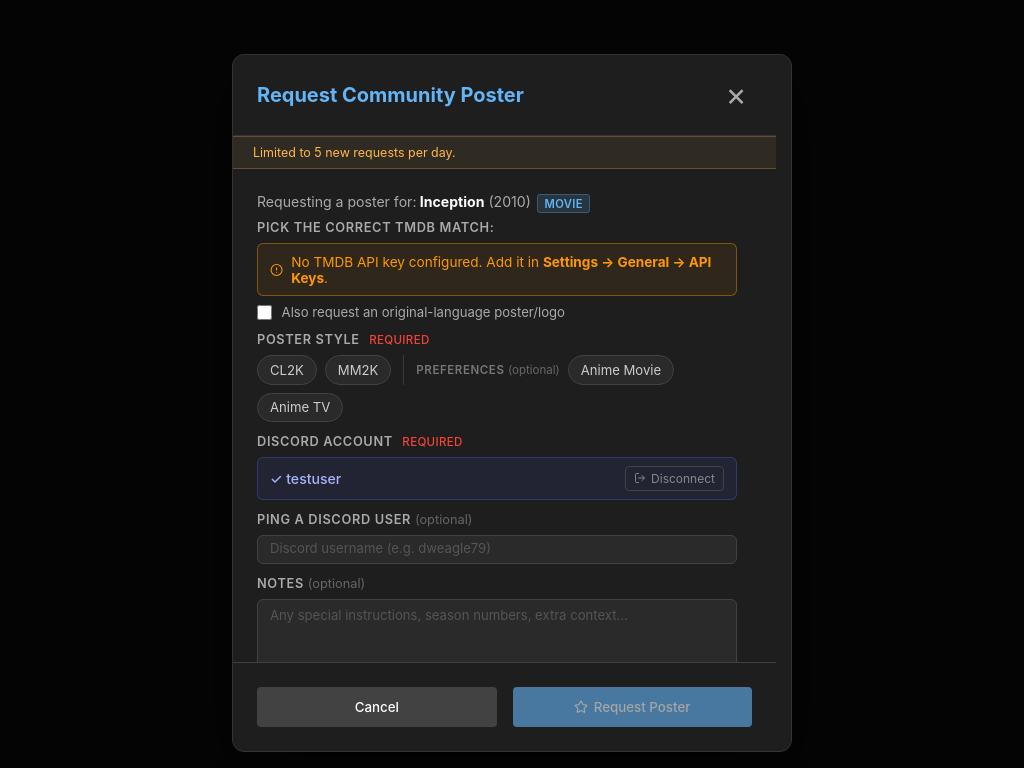
Scenario: CommunityRequestModal › submit button › stays disabled until a poster style is selected, then enables
Expected: the button "Request Poster" is disabled, [512, 687, 752, 727]
Step 1. Click the button "CL2K" → click(287, 370), box [257, 355, 317, 384]
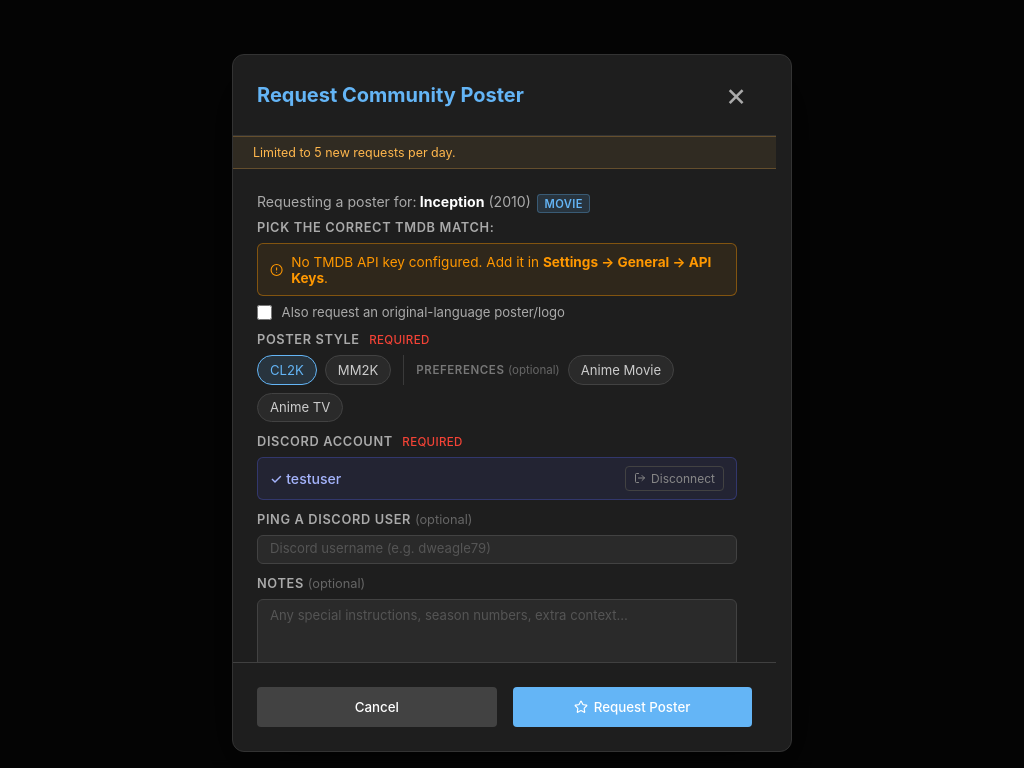
Now the button "Request Poster" is enabled, box [512, 687, 752, 727]
